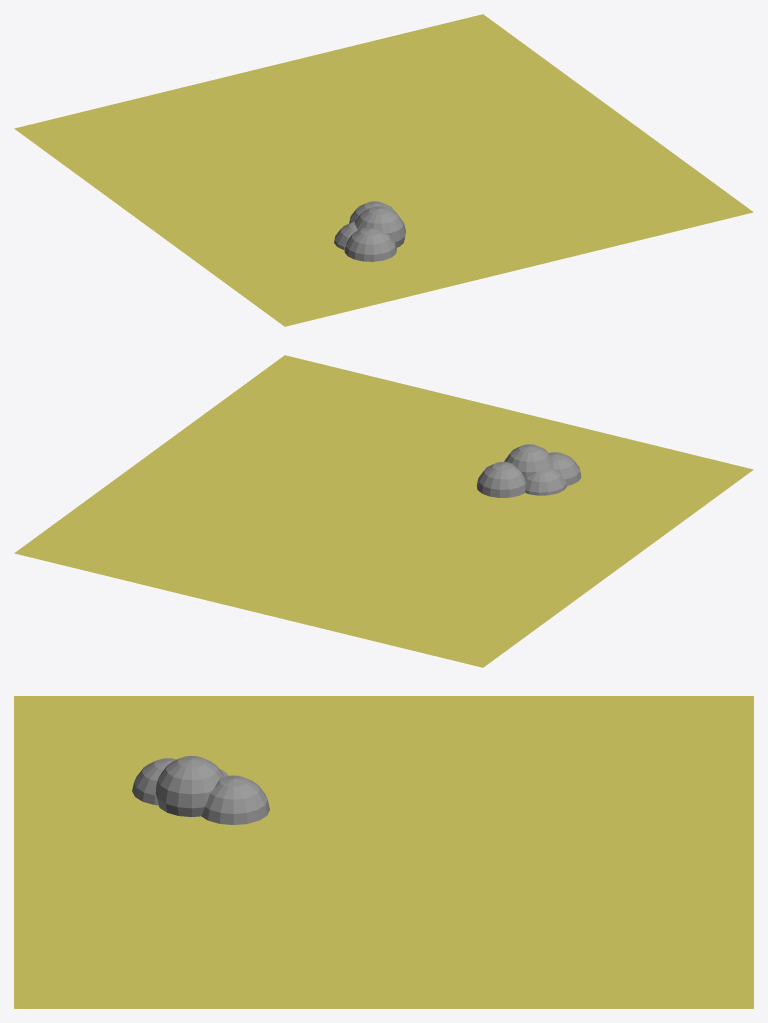
File: testlevel.dae
3 views of the same model, one above another, from view 1: azimuth 30°, elevation 25°; view 2: azimuth 150°, elevation 25°; view 3: azimuth 270°, elevation 25° (orthographic). The views are drawn at different scales.
Parts seen in each view (by area): view 1: Plane-col, Sphere_002-col, Sphere-col; view 2: Plane-col, Sphere_001-col, Sphere-col, Sphere_003-col, Sphere_002-col; view 3: Plane-col, Sphere-col, Sphere_001-col, Sphere_002-col.
Boxes of the visible parts, box(x1,y1,x2,y2) form: Plane-col: box(14, 14, 753, 326); Sphere_002-col: box(344, 228, 396, 261); Sphere-col: box(355, 206, 405, 247); Plane-col: box(14, 355, 753, 667); Sphere_001-col: box(476, 461, 525, 497); Sphere-col: box(504, 444, 551, 479); Sphere_003-col: box(525, 467, 567, 495); Sphere_002-col: box(549, 452, 581, 485); Plane-col: box(14, 696, 753, 1008); Sphere-col: box(155, 755, 224, 816); Sphere_001-col: box(201, 775, 269, 824); Sphere_002-col: box(132, 758, 176, 805).
Bounding box in the file's own units: 20 × 20 × 2.56.
